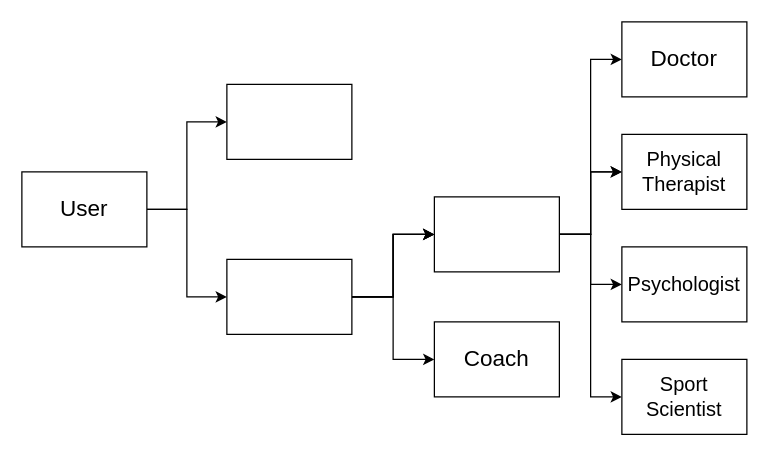
Some shapes in this 769 by 456 pixel diagram are drawn without their labels. The shapes that lost their labels are listed below. From the top down, each one's centre as x and y in pixels, then its label:
At pixel 289 121: "Athlete".
At pixel 496 234: "Medical Team".
At pixel 289 296: "Staff".
